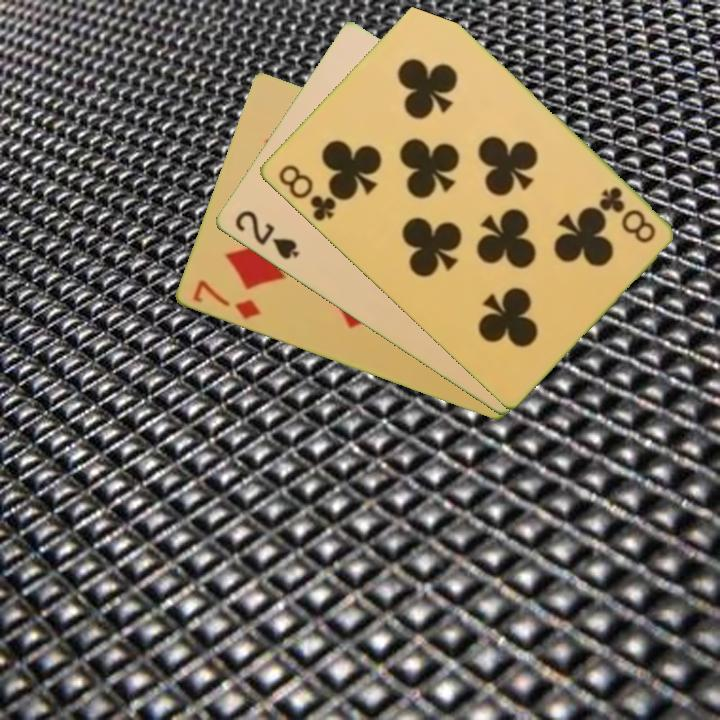2s: (230, 206, 302, 263)
7d: (189, 276, 263, 323)
8c: (274, 161, 339, 224), (594, 183, 659, 246)
